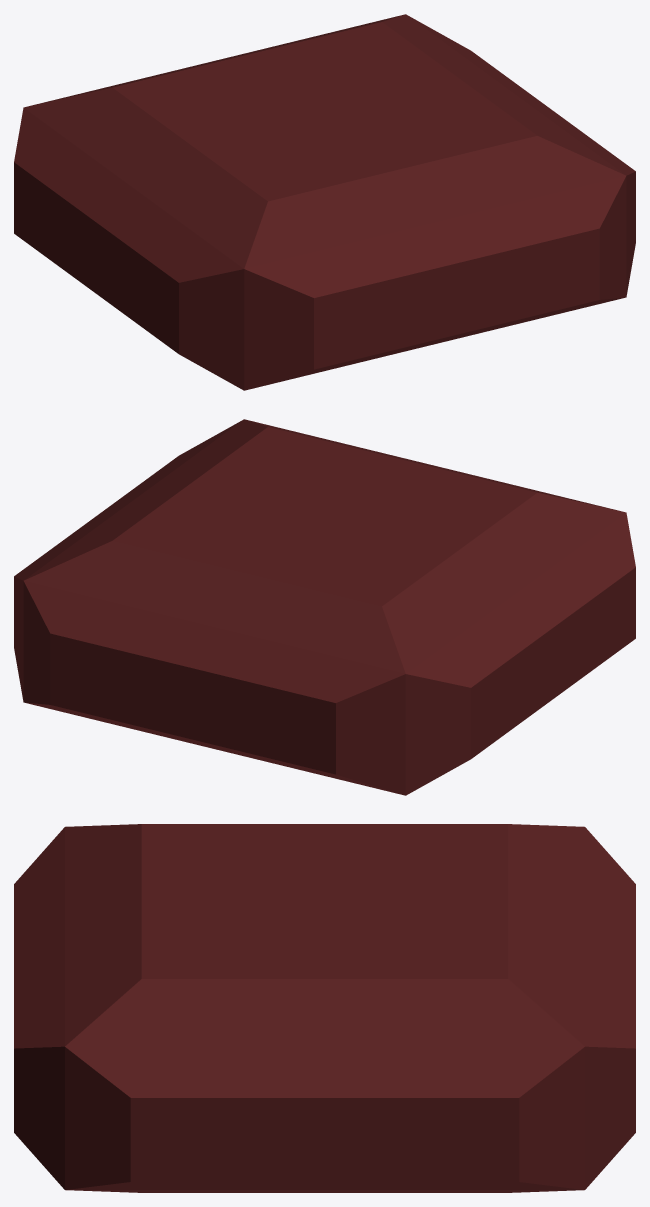
Rendered from SM_Prop_Jewel_02.glb.
3 renders of one model, top to bottom at view 1: azimuth 30°, elevation 25°; view 2: azimuth 150°, elevation 25°; view 3: azimuth 270°, elevation 25°, orthographic. The views are drawn at different scales.
Visible parts, largest first — view 1: SM_Prop_Jewel_02; view 2: SM_Prop_Jewel_02; view 3: SM_Prop_Jewel_02.
Part boxes in pixels (box(x1,y1,x2,y2)): SM_Prop_Jewel_02: box(14, 14, 635, 390); SM_Prop_Jewel_02: box(14, 419, 635, 795); SM_Prop_Jewel_02: box(14, 824, 635, 1192).
Size of the model in its own units: 0.000865 by 0.000328 by 0.000865.
Materials: 1 (1 with a texture image).
